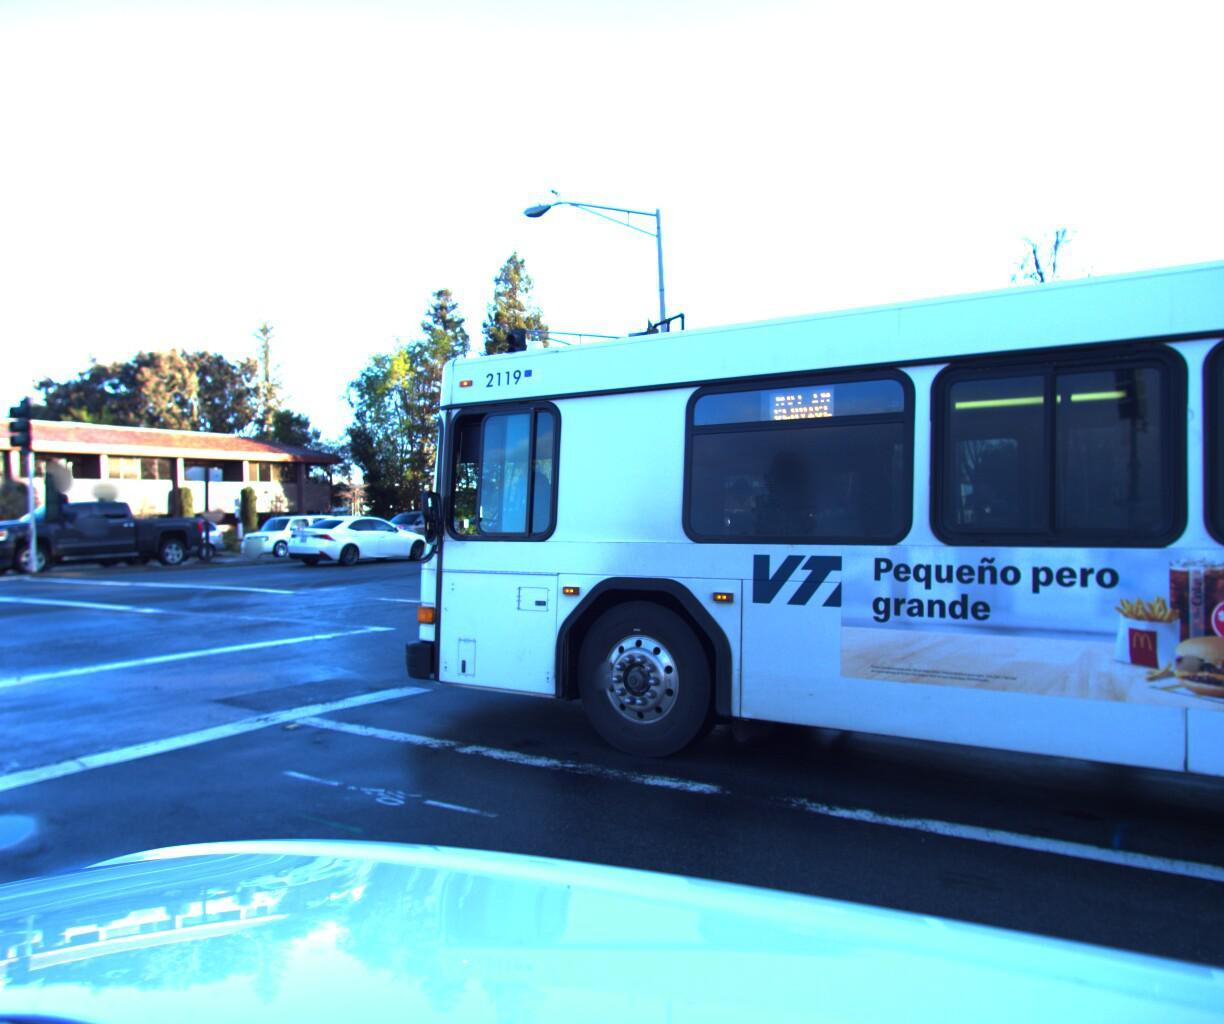bus: (338, 0, 1224, 1024)
car: (0, 495, 212, 579), (279, 510, 433, 568), (163, 513, 286, 562), (226, 511, 351, 558), (357, 505, 466, 552)
